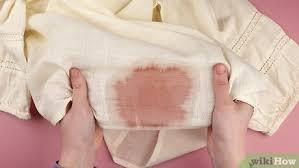oil: (119, 66, 195, 127)
